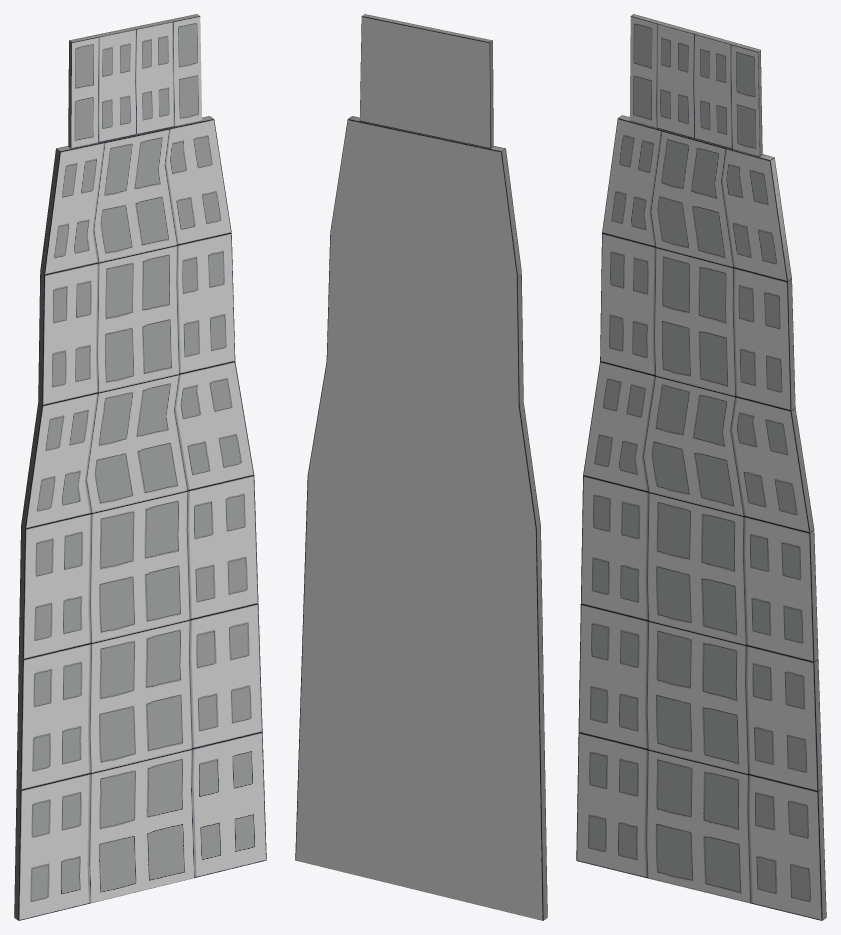
Rendered from 171220_exp_ie0404_paraglider_buidings_bk.fbx.
The picture shows the model from 3 angles, left to right: view 1: azimuth 30°, elevation 25°; view 2: azimuth 150°, elevation 25°; view 3: azimuth 330°, elevation 25°; orthographic projection.
Visible parts, largest first — view 1: building14_conical; view 2: building14_conical; view 3: building14_conical.
Part boxes in pixels (x1=…): building14_conical: x1=14, y1=14, x2=266, y2=920; building14_conical: x1=295, y1=14, x2=547, y2=920; building14_conical: x1=576, y1=14, x2=826, y2=920.
Bounding box in the file's own units: 32 × 107 × 1.
Materials: 1 (1 with a texture image).
